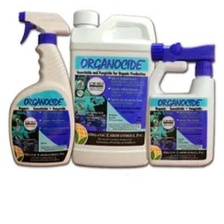insecticide: (65, 8, 158, 171), (6, 9, 76, 169), (141, 40, 220, 171)
